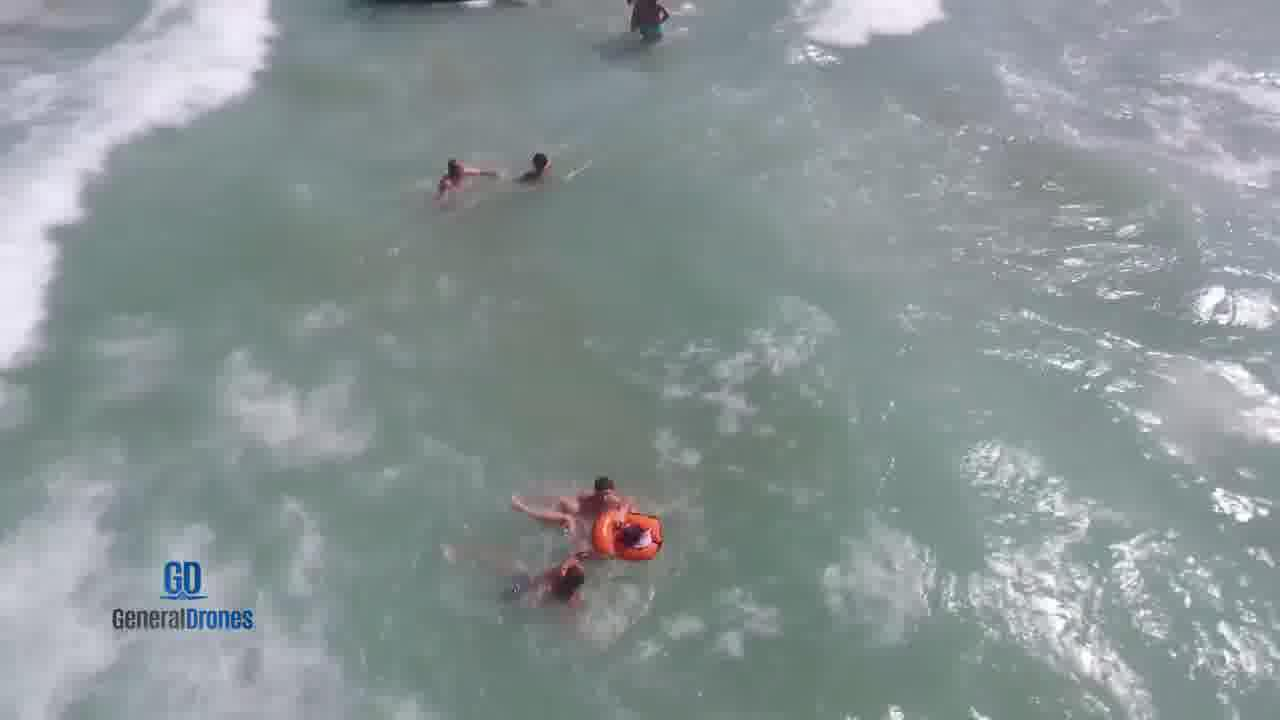human: (501, 486, 666, 554), (511, 544, 603, 616), (563, 463, 641, 513), (499, 136, 565, 193), (422, 144, 487, 200)
